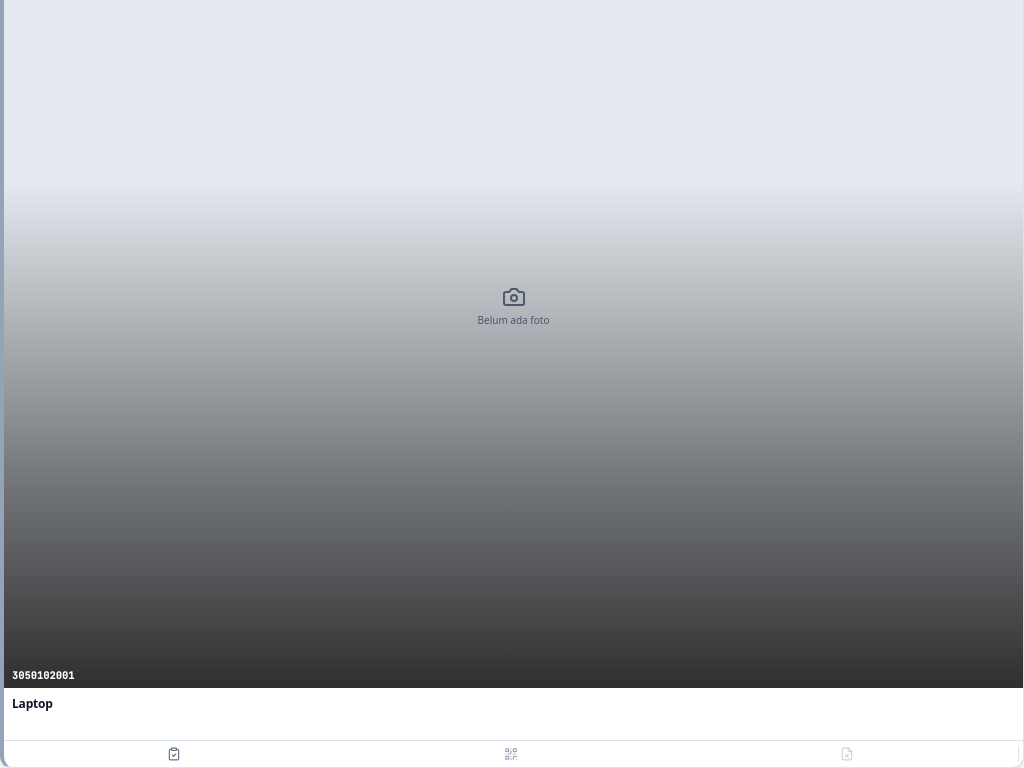
Scenario: popup stiker di kartu galeri › menyebut ukuran Sedang sebagai huruf TEBAL M
The width and height of the screenshot is (1024, 768).
(page scrolled)
Click the button with test id "gallery-stiker-a1" at (511, 754), box [343,741,678,767]
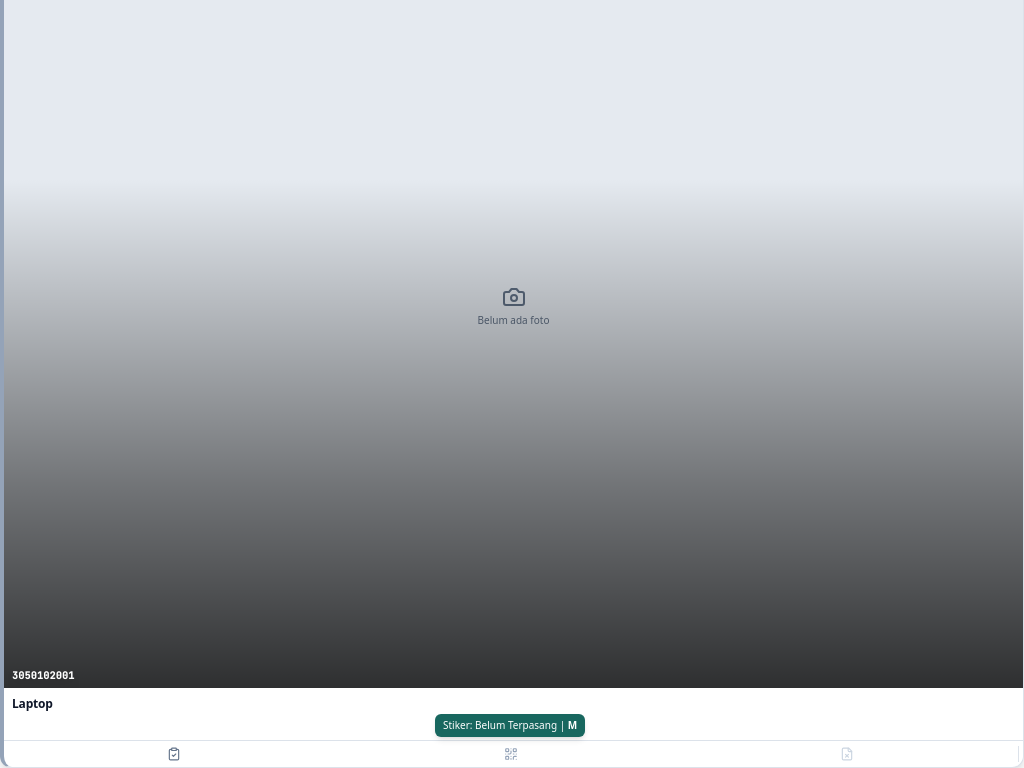
Result: the dialog shows "Stiker: Belum Terpasang" at [435,714,585,737]
Result: the text "M" is shown at [568,718,577,732]
